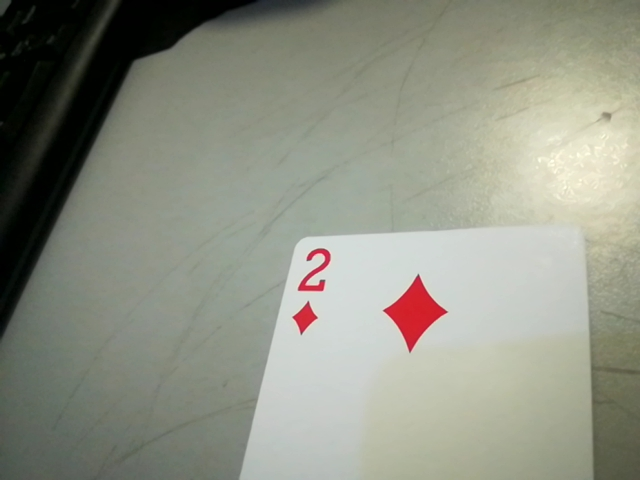fk 2: (281, 240, 344, 342)
